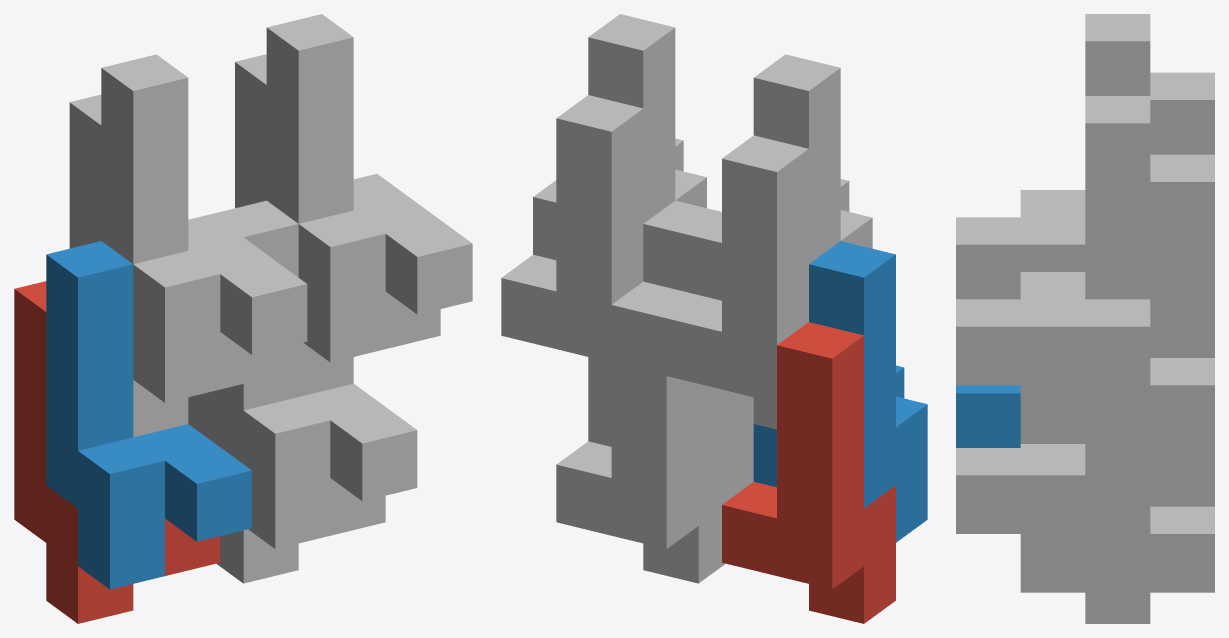
Rendered from tiling.obj.
3 renders of one model, left to right at view 1: azimuth 30°, elevation 25°; view 2: azimuth 150°, elevation 25°; view 3: azimuth 270°, elevation 25°, orthographic.
Visible parts, largest first — view 1: copy_1_domain_2, copy_1_domain_4, copy_1_domain_8, copy_1_domain_6, copy_1_domain_1, copy_1_domain_3, copy_1_domain_7, copy_1_domain_5; view 2: copy_1_domain_1, copy_1_domain_5, copy_1_domain_7, copy_1_domain_3, copy_1_domain_2, copy_1_domain_8, copy_1_domain_4, copy_1_domain_6; view 3: copy_1_domain_8, copy_1_domain_7, copy_1_domain_5, copy_1_domain_4, copy_1_domain_6, copy_1_domain_3, copy_1_domain_2.
Boxes of the visible parts, x1=… form: copy_1_domain_2: x1=46, y1=241, x2=251, y2=589; copy_1_domain_4: x1=101, y1=54, x2=307, y2=402; copy_1_domain_8: x1=266, y1=14, x2=472, y2=362; copy_1_domain_6: x1=211, y1=200, x2=417, y2=548; copy_1_domain_1: x1=14, y1=281, x2=220, y2=623; copy_1_domain_3: x1=69, y1=94, x2=275, y2=437; copy_1_domain_7: x1=235, y1=54, x2=440, y2=396; copy_1_domain_5: x1=188, y1=391, x2=385, y2=583; copy_1_domain_1: x1=722, y1=322, x2=895, y2=623; copy_1_domain_5: x1=556, y1=281, x2=730, y2=583; copy_1_domain_7: x1=501, y1=95, x2=643, y2=388; copy_1_domain_3: x1=666, y1=135, x2=808, y2=429; copy_1_domain_2: x1=753, y1=241, x2=927, y2=542; copy_1_domain_8: x1=533, y1=14, x2=706, y2=259; copy_1_domain_4: x1=698, y1=54, x2=872, y2=300; copy_1_domain_6: x1=588, y1=200, x2=753, y2=498; copy_1_domain_8: x1=956, y1=96, x2=1150, y2=385; copy_1_domain_7: x1=1020, y1=154, x2=1214, y2=475; copy_1_domain_5: x1=1020, y1=444, x2=1214, y2=623; copy_1_domain_4: x1=956, y1=14, x2=1150, y2=299; copy_1_domain_6: x1=956, y1=444, x2=1150, y2=533; copy_1_domain_3: x1=1150, y1=72, x2=1214, y2=154; copy_1_domain_2: x1=956, y1=385, x2=1020, y2=447.
Size of the model in its own units: 6 by 9 by 4.
